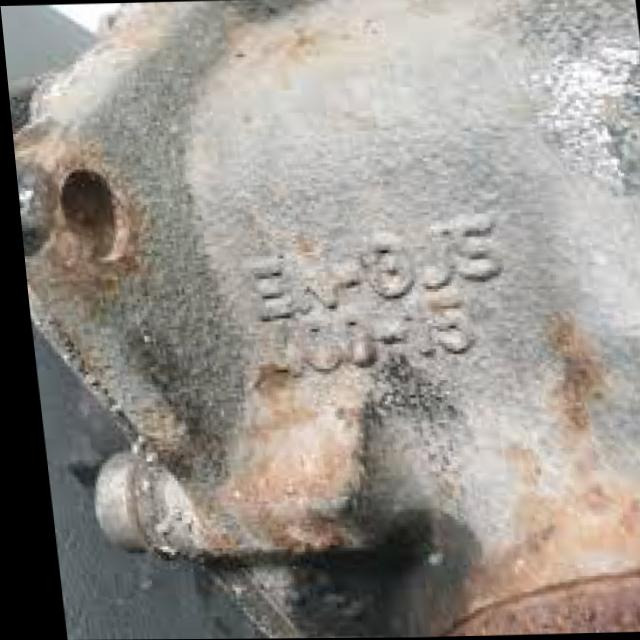ocr: (226, 202, 512, 333), (249, 290, 491, 378)
